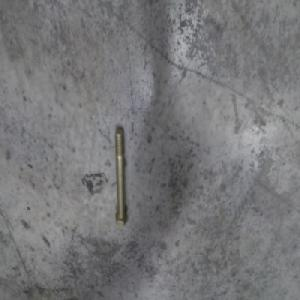Bolt: (111, 125, 129, 228)
